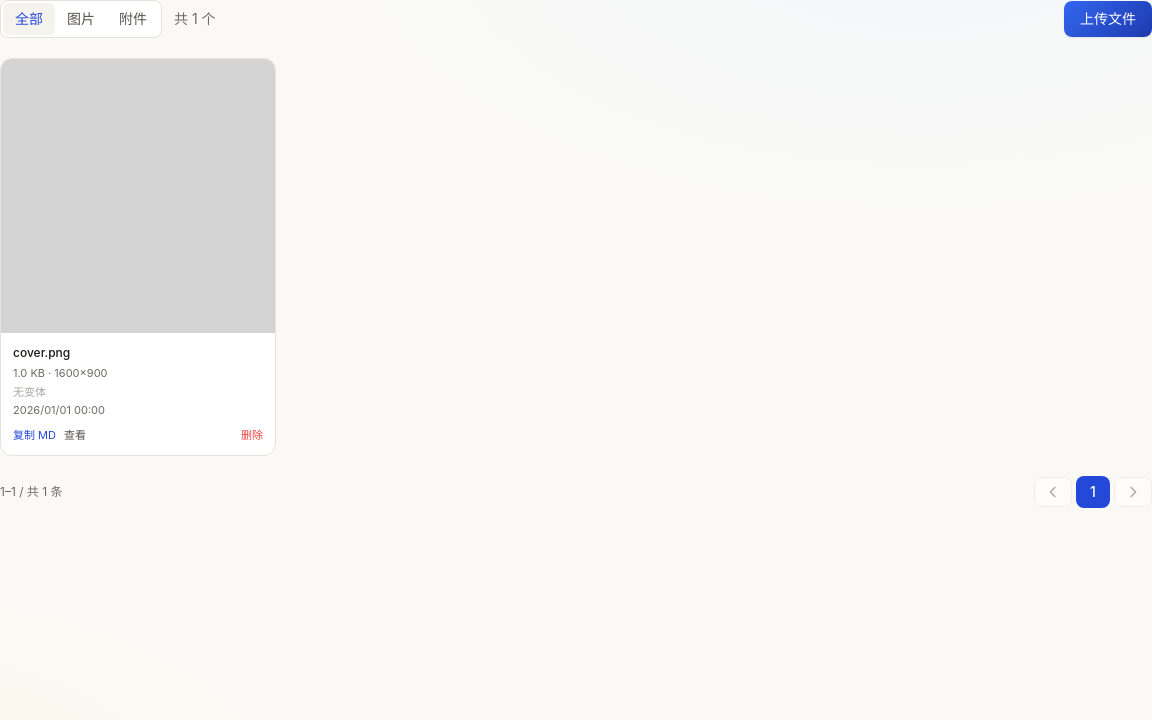
Test case: MediaView · 删除 › 点「删除」只打开确认框，一个请求都不发
This screenshot has width=1152, height=720.
Click the button "删除" at (252, 435), box [241,426,263,443]
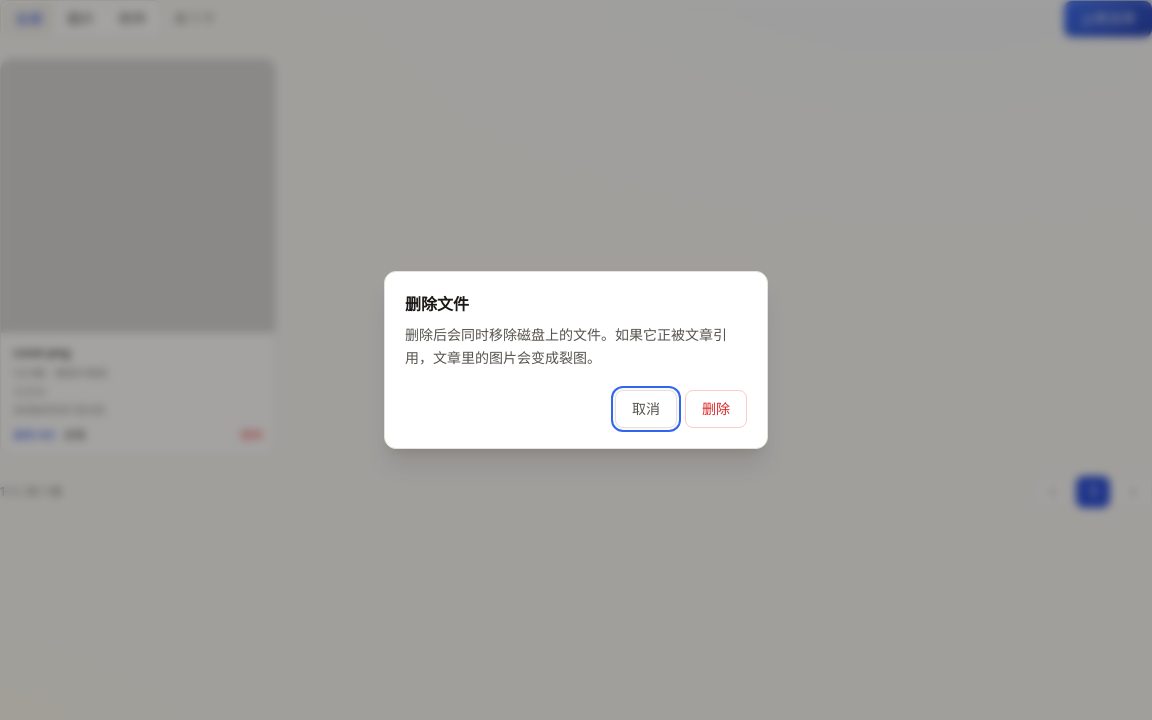
Check: the dialog shows "文章里的图片会变成裂图", box [405,326,727,366]
